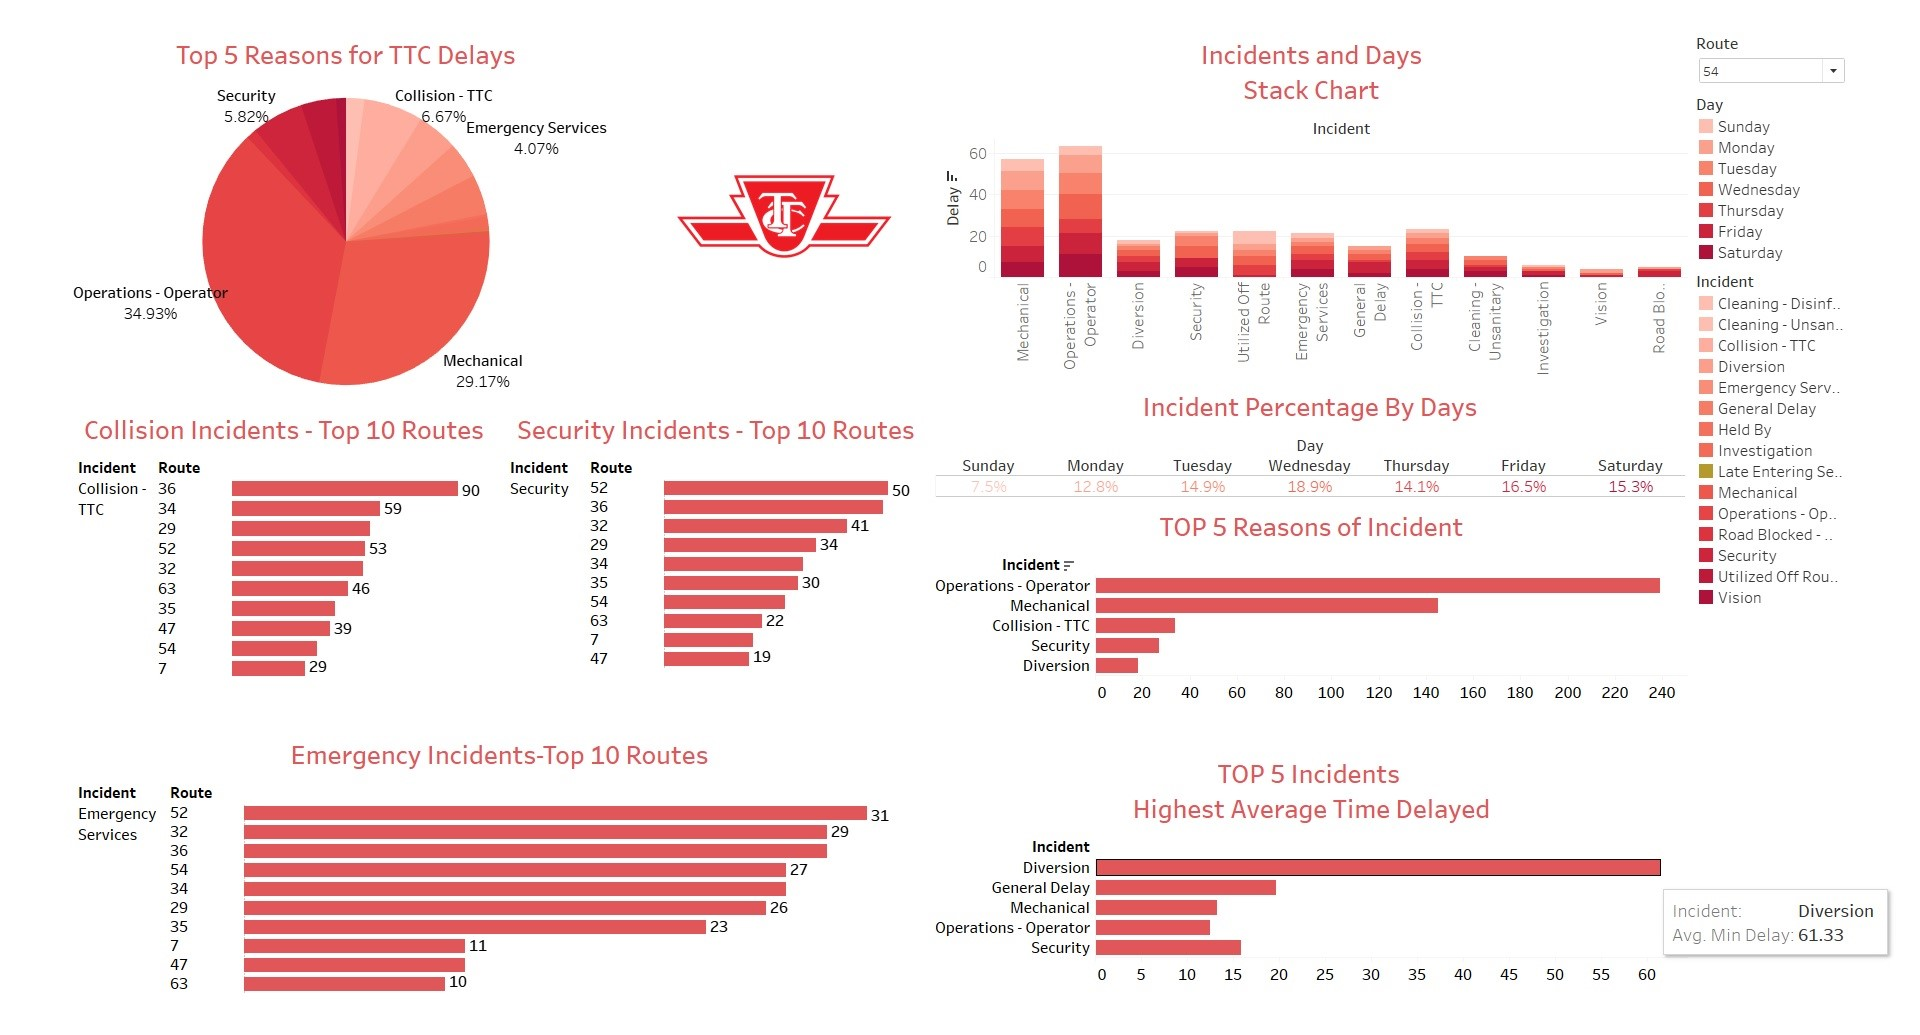

The page's visual inventory and layout, read from the dashboard file:
{"tool":"tableau","page":{"name":"Dashboard 1","canvas":[1800,1000],"ordinal":0},"visuals":[{"type":"worksheet","title":"Pie Chart Of Incidence","mark":"Pie","box":[8,8,569,375]},{"type":"image","param":"Image/g-03-a101-ttc-logo-logo.png","box":[577,8,294,375]},{"type":"worksheet","title":"Incident Chart","mark":"Automatic","rows":["Min Delay"],"cols":["Incident"],"box":[871,8,761,352]},{"type":"filter","title":"Incident Chart","param":"[federated.16opowa1obgr8c16zy2ib0z2z5w8].[none:Route:ok]","box":[1632,8,160,61]},{"type":"legend","title":"Incident Chart","param":"[federated.16opowa1obgr8c16zy2ib0z2z5w8].[none:Day:nk]","box":[1632,69,160,177]},{"type":"legend","title":"Pie Chart Of Incidence","param":"[federated.16opowa1obgr8c16zy2ib0z2z5w8].[none:Incident:nk]","box":[1632,246,160,345]},{"type":"worksheet","title":"Incident Percentage Day","mark":"Automatic","cols":["Day"],"box":[871,360,761,120]},{"type":"worksheet","title":"Collision Top 10","mark":"Bar","rows":["Incident","Route"],"cols":["Min Delay"],"box":[8,383,431.5,325]},{"type":"worksheet","title":"Security Top 10","mark":"Automatic","rows":["Incident","Route"],"cols":["Min Delay"],"box":[439.5,383,431.5,325]},{"type":"worksheet","title":"Top5 ","mark":"Automatic","rows":["Incident"],"cols":["Min Delay"],"box":[871,480,761,247]},{"type":"worksheet","title":"Emergency Top 10","mark":"Automatic","rows":["Incident","Route"],"cols":["Min Delay"],"box":[8,708,863,284]},{"type":"worksheet","title":"Top5 Avg Time Delay","mark":"Automatic","rows":["Incident"],"cols":["Min Delay"],"box":[871,727,761,265]}]}

Visuals, with their boxes on the page's 1800x1000 design canvas (x1, y1, x2, y2). These are canvas units, not pixel positions in the 1920x1035 screenshot, which may show the page scaled, cropped or inside an application window:
"Pie Chart Of Incidence" worksheet (Pie marks): 8 8 577 383
image: 577 8 871 383
"Incident Chart" worksheet: 871 8 1632 360
"Incident Chart" filter: 1632 8 1792 69
"Incident Chart" legend: 1632 69 1792 246
"Pie Chart Of Incidence" legend: 1632 246 1792 591
"Incident Percentage Day" worksheet: 871 360 1632 480
"Collision Top 10" worksheet (Bar marks): 8 383 440 708
"Security Top 10" worksheet: 440 383 871 708
"Top5 " worksheet: 871 480 1632 727
"Emergency Top 10" worksheet: 8 708 871 992
"Top5 Avg Time Delay" worksheet: 871 727 1632 992
